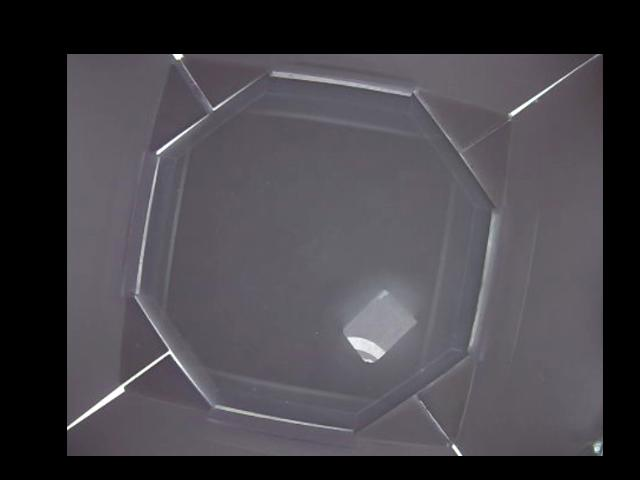China: (342, 290, 417, 363)
